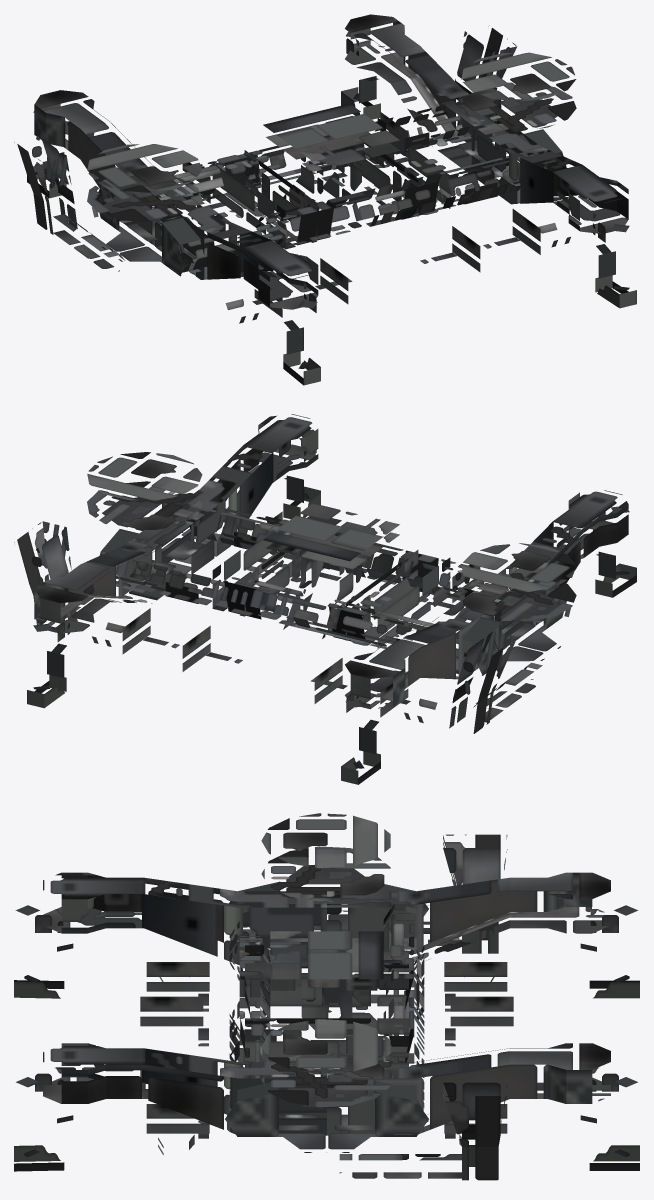
File: frame.obj
3 views of the same model, one above another, from view 1: azimuth 30°, elevation 25°; view 2: azimuth 150°, elevation 25°; view 3: azimuth 270°, elevation 25° (orthographic). The views are drawn at different scales.
Size of the model in its own units: 3.06 by 0.75 by 3.1.
